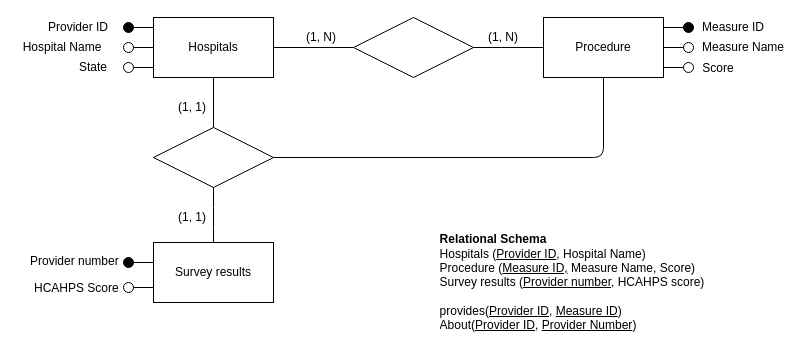
Some shapes in this 810 by 360 pixel diagram are drawn without their labels. Here are the shapes that lost their labels. From the top down, the box of each, then its label:
(352, 16, 474, 78): provides
(152, 126, 274, 188): about
